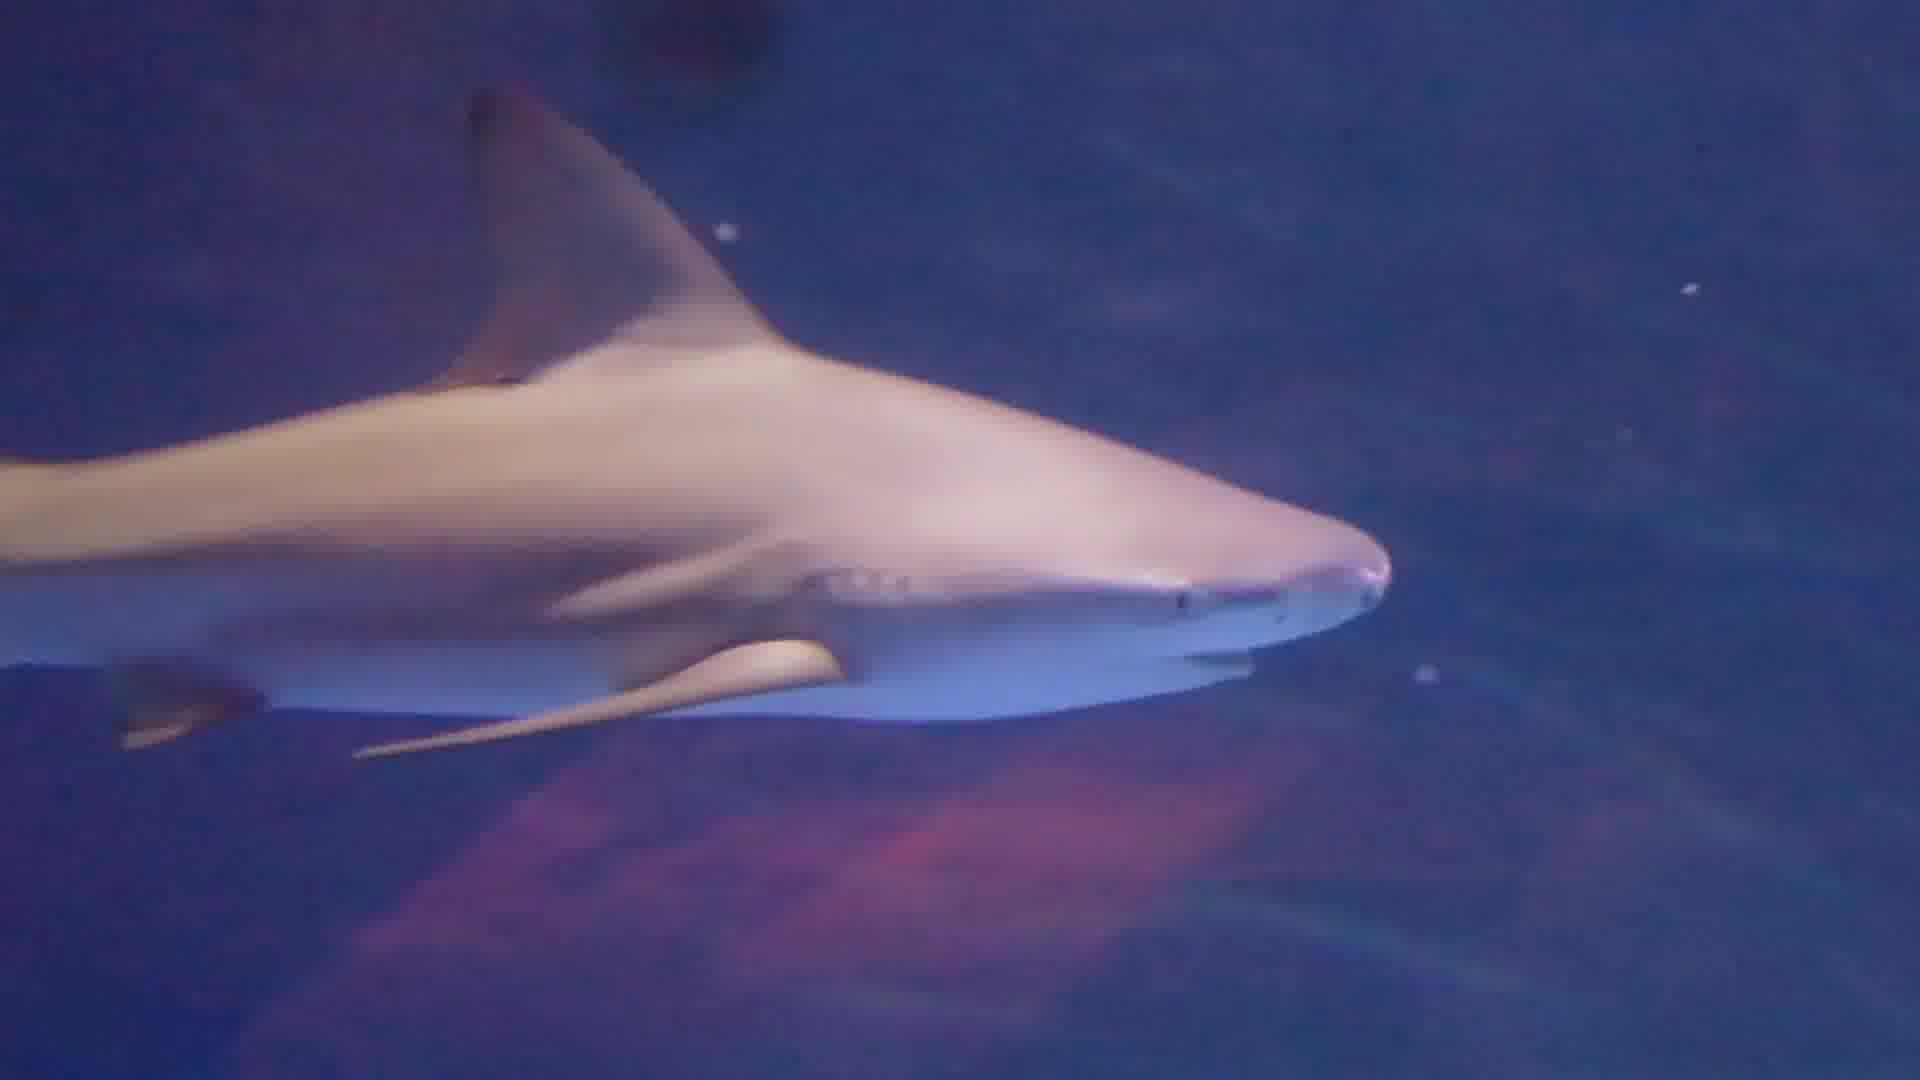Carcharhinus leucas: (1, 84, 1414, 796)
